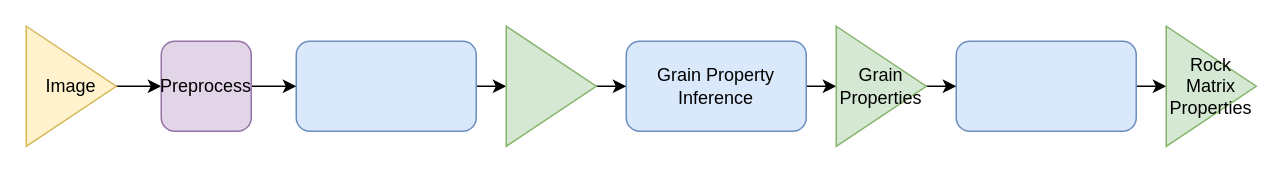
Some shapes in this 1283 by 173 pixel diagram are drawn without their labels. The shapes that lost their labels are listed below. From the top down, each one's box as (x1, y1, x2, y2) in pixels, then its label:
(295, 40, 476, 131): Grain Segmentation
(505, 25, 596, 146): Individual Grain Data
(955, 40, 1136, 131): Statistical Data Analysis
